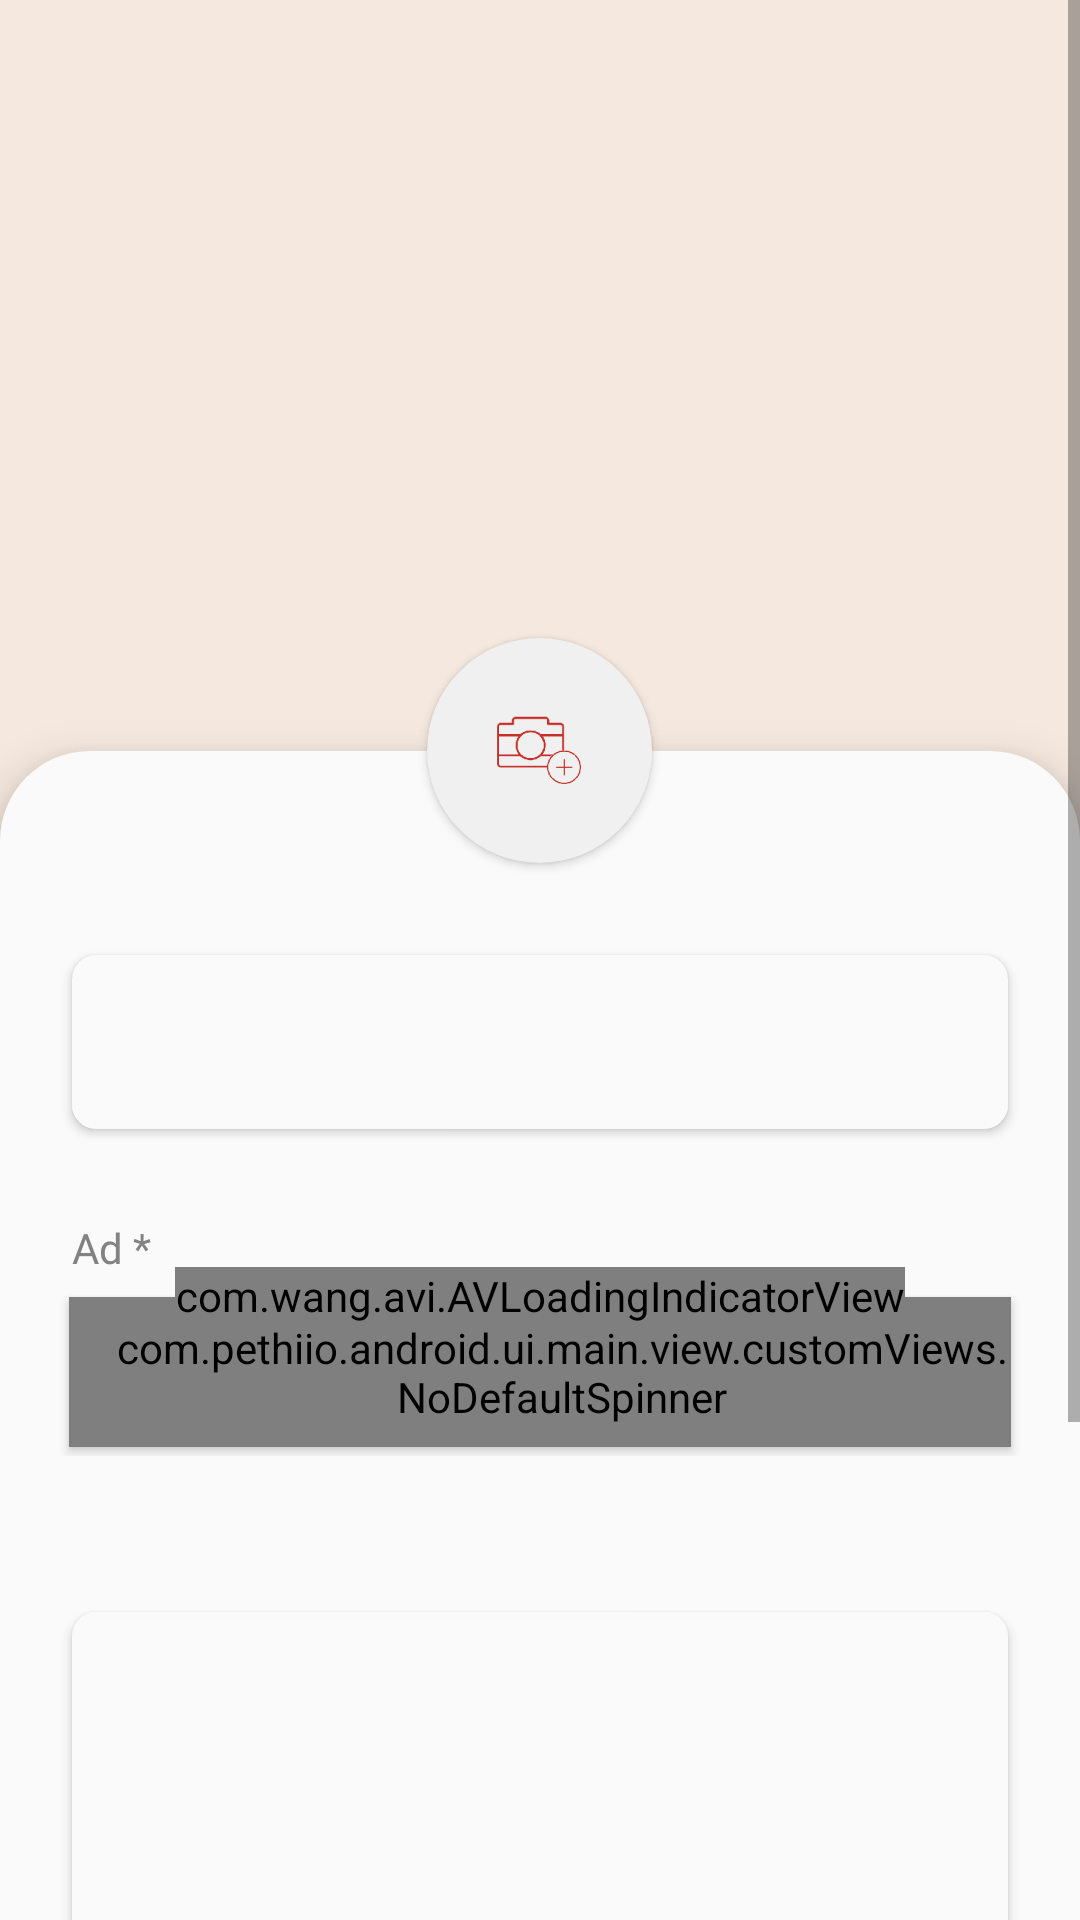

Locate icon controls on the screen. Image size 1080w x 1920h, boxes as (x1, y1, x2, y2).
photo add: (497, 716, 581, 784)
